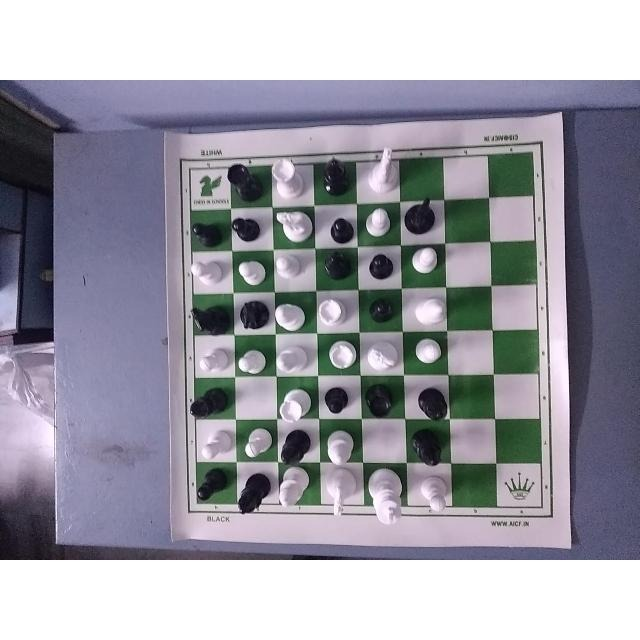black-bishop: (315, 152, 357, 205), (236, 468, 276, 521), (410, 384, 454, 428), (277, 421, 315, 471), (189, 384, 229, 426), (412, 425, 448, 469), (321, 249, 359, 287)
black-knight: (188, 298, 232, 338), (237, 290, 271, 338), (405, 196, 437, 240)
black-pawn: (358, 288, 401, 327), (322, 381, 358, 421), (230, 210, 270, 244), (193, 470, 227, 507), (363, 253, 403, 282), (191, 219, 227, 251), (330, 210, 357, 246)
black-rook: (224, 158, 266, 205), (362, 384, 399, 419)
white-bishop: (277, 461, 319, 514), (272, 338, 315, 382), (324, 424, 360, 472), (412, 294, 454, 331), (271, 298, 310, 329)
white-king: (362, 466, 413, 528)
white-knight: (321, 464, 365, 520), (271, 206, 316, 250), (362, 328, 406, 373), (368, 145, 404, 195)
white-pawn: (414, 471, 450, 517), (360, 202, 399, 244), (193, 343, 234, 379), (410, 338, 448, 374), (404, 246, 444, 280), (240, 427, 275, 465), (187, 257, 227, 290), (197, 429, 236, 462), (234, 256, 269, 288), (234, 345, 266, 377), (272, 253, 303, 281)
white-rook: (268, 154, 308, 201), (321, 335, 363, 378), (276, 383, 317, 424), (315, 297, 357, 333)
